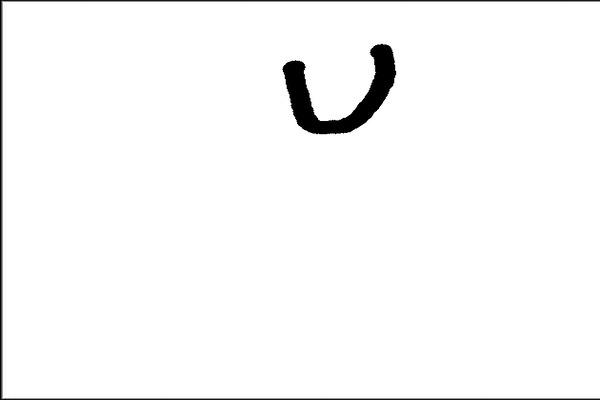U: (274, 36, 403, 140)
